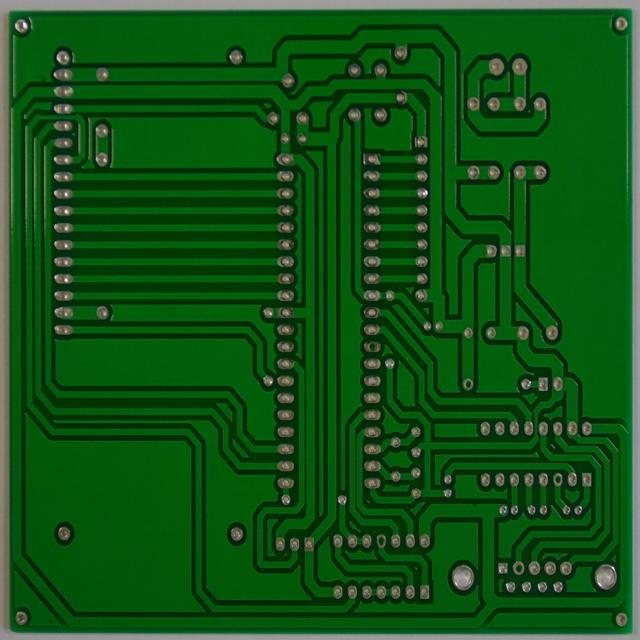missing_hole: (510, 558, 526, 577), (374, 530, 387, 551), (364, 337, 380, 354), (550, 470, 565, 488), (460, 376, 476, 392)
